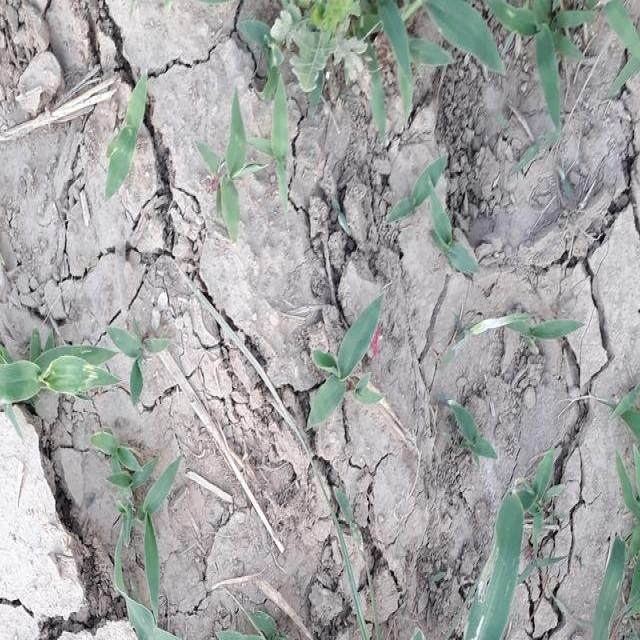weed: (242, 0, 636, 121), (0, 315, 128, 420), (315, 301, 396, 443)
